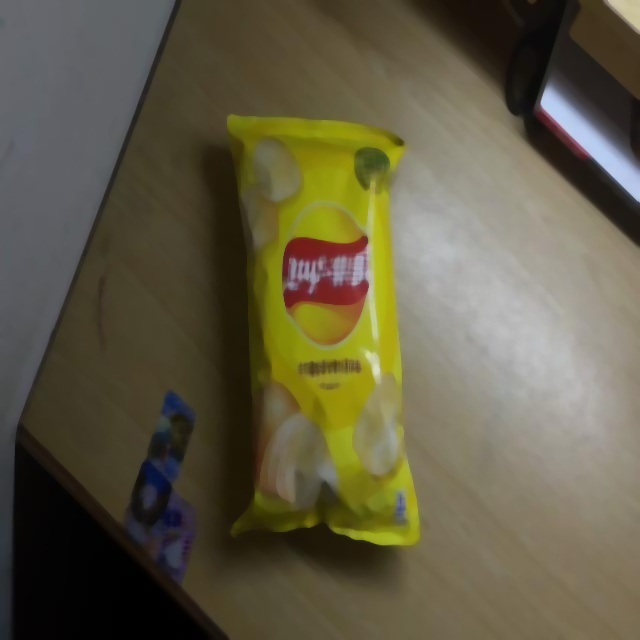Lay-s-original: (222, 108, 423, 546)
